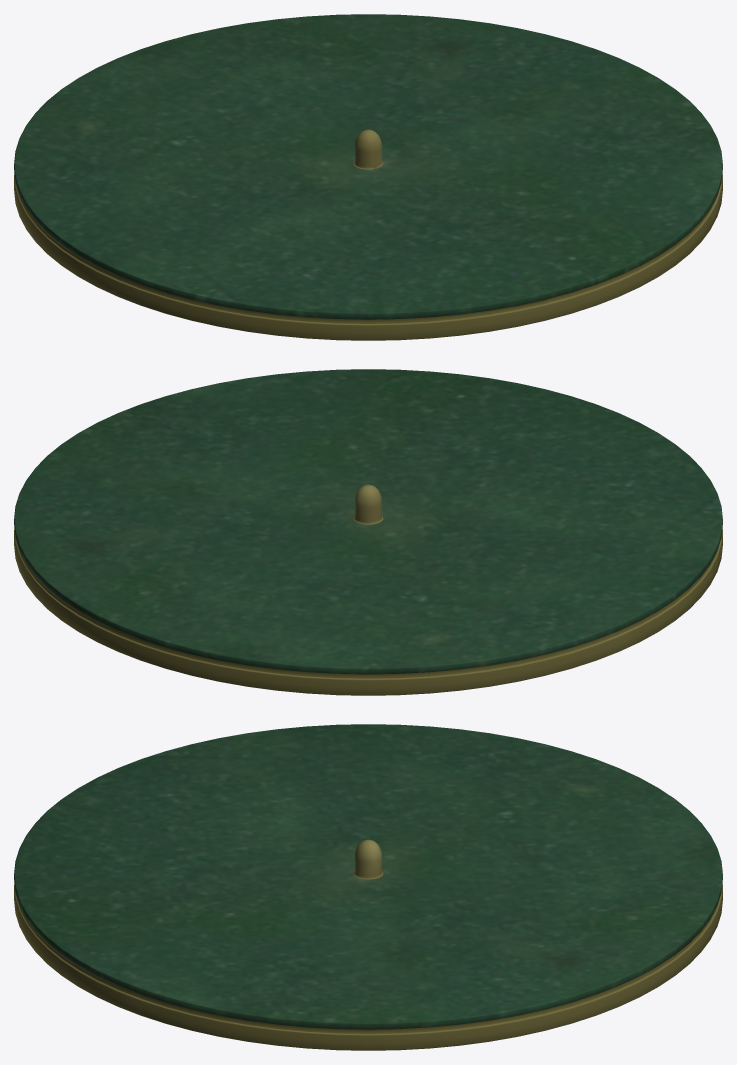
The model's file is disco.obj.
The picture shows the model from 3 angles, top to bottom: view 1: azimuth 30°, elevation 25°; view 2: azimuth 150°, elevation 25°; view 3: azimuth 270°, elevation 25°; orthographic projection.
Parts seen in each view (by area): view 1: polySurface47 _Victor_V_phonograph_v2_Texture:_Victor_V_phonogra; view 2: polySurface47 _Victor_V_phonograph_v2_Texture:_Victor_V_phonogra; view 3: polySurface47 _Victor_V_phonograph_v2_Texture:_Victor_V_phonogra.
Part boxes in pixels (x1,y1,x2,y2): polySurface47 _Victor_V_phonograph_v2_Texture:_Victor_V_phonogra: (14,14,722,340); polySurface47 _Victor_V_phonograph_v2_Texture:_Victor_V_phonogra: (14,369,722,695); polySurface47 _Victor_V_phonograph_v2_Texture:_Victor_V_phonogra: (14,724,722,1050).
Size of the model in its own units: 1.36 by 0.151 by 1.36.
Materials: 1 (1 with a texture image).
